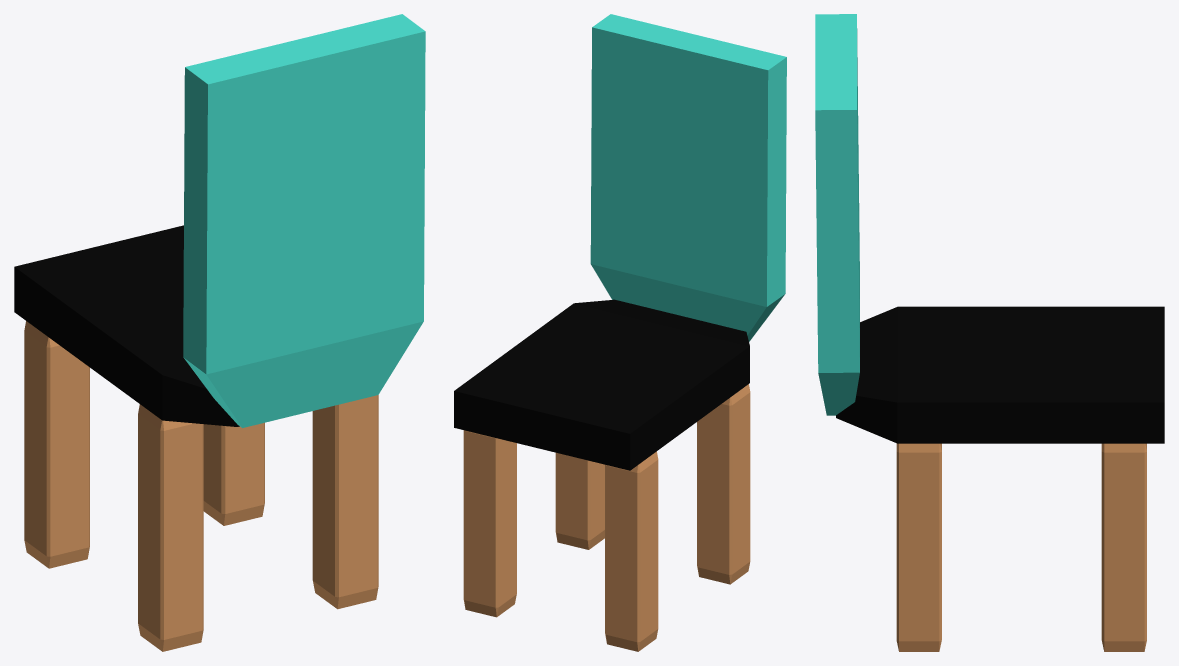
The model's file is chair1.fbx.
3 renders of one model, left to right at view 1: azimuth 30°, elevation 25°; view 2: azimuth 150°, elevation 25°; view 3: azimuth 270°, elevation 25°, orthographic. The views are drawn at different scales.
Visible parts, largest first — view 1: Cube.005; view 2: Cube.005; view 3: Cube.005.
Boxes of the visible parts, bbox=[...] form: Cube.005: bbox=[14, 14, 425, 651]; Cube.005: bbox=[454, 14, 786, 651]; Cube.005: bbox=[815, 14, 1164, 651].
Bounding box in the file's own units: 1007 × 2647 × 1543.
